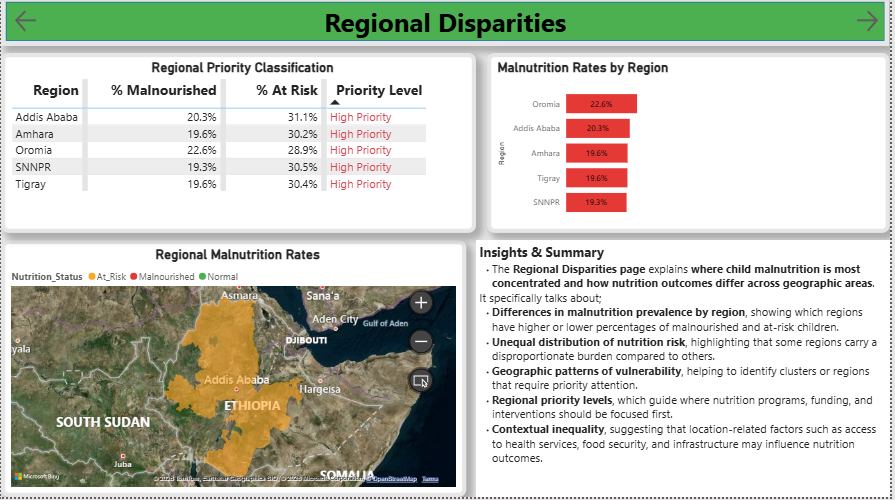

The dashboard page shown, as its layout file describes it:
{"tool":"powerbi","page":{"name":"Regional Disparities","canvas":[1280,720],"ordinal":3},"visuals":[{"type":"shape","title":"Under-Five Child Nutrition Analysis Dashboard","box":[0,0,1279.4,70],"z":0},{"type":"barChart","title":"Malnutrition Rates by Region","fields":{"Category":["malnutrition_children_ethiopia.Region"],"Y":["malnutrition_children_ethiopia.% Malnourished"]},"box":[699.8,80.6,580.3,259.2],"z":1000},{"type":"filledMap","title":"Regional Malnutrition Rates","fields":{"Series":["malnutrition_children_ethiopia.Nutrition_Status"],"Category":["malnutrition_children_ethiopia.Region"]},"box":[0,349.9,669.6,370.1],"z":2000},{"type":"tableEx","title":"Regional Priority Classification","fields":{"Values":["malnutrition_children_ethiopia.Region","malnutrition_children_ethiopia.% Malnourished","malnutrition_children_ethiopia.% At Risk","malnutrition_children_ethiopia.Priority Level"]},"box":[0,80.6,684,259.2],"z":3000},{"type":"textbox","box":[684,349.9,596.2,370.1],"z":4000},{"type":"actionButton","box":[15.8,14.4,99.4,40.3],"z":5000},{"type":"actionButton","box":[1226.9,14.4,51.8,40.3],"z":6000}]}

Visuals, with their boxes in screenshot pixels (x1, y1, x2, y2), scaled from the page's 1280x720 canvas onto the 895x500 screenshot:
"Under-Five Child Nutrition Analysis Dashboard" shape: (0, 0, 894, 49)
"Malnutrition Rates by Region" barChart: (489, 56, 894, 236)
"Regional Malnutrition Rates" filledMap: (0, 243, 468, 499)
"Regional Priority Classification" tableEx: (0, 56, 478, 236)
textbox: (478, 243, 894, 499)
actionButton: (11, 10, 81, 38)
actionButton: (858, 10, 894, 38)
